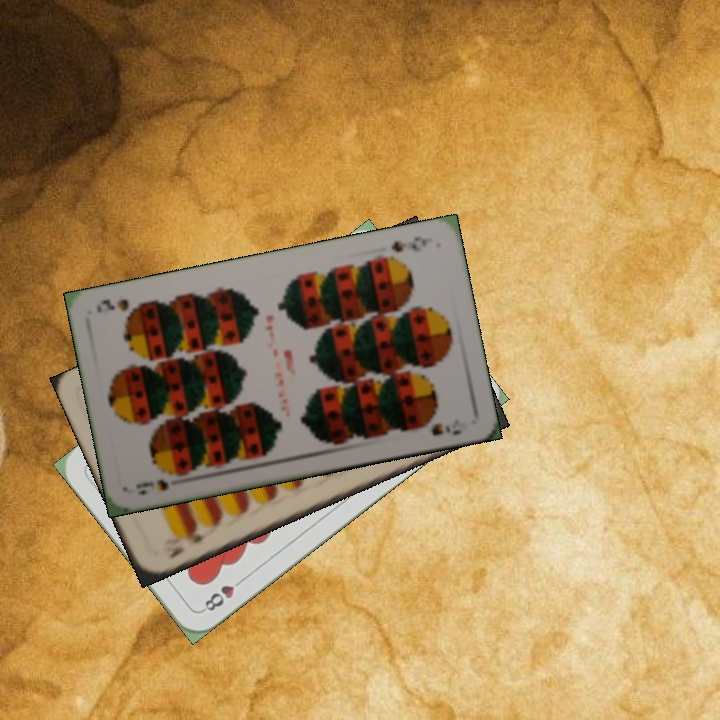E10: (165, 525, 208, 561)
H8: (198, 573, 248, 615)
S9: (387, 232, 435, 255), (131, 475, 171, 498)
